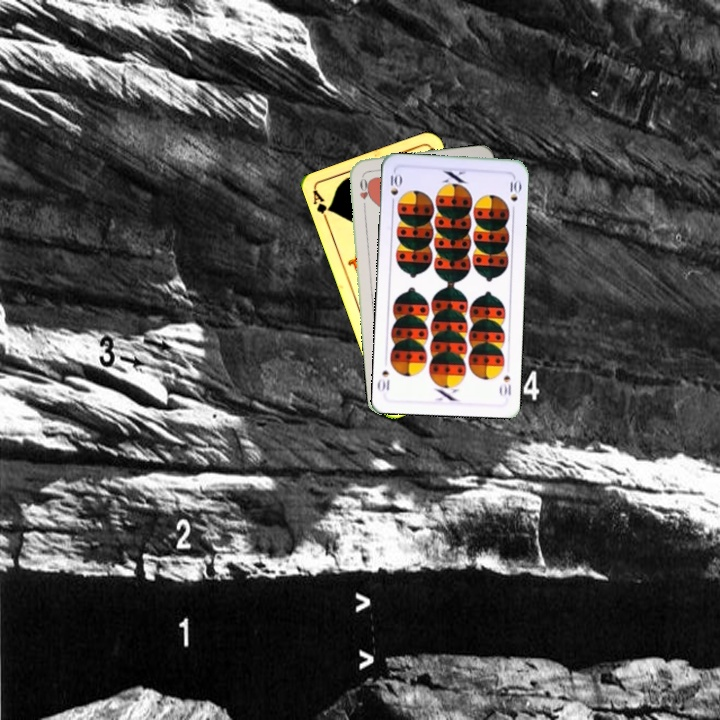GA: (309, 187, 334, 226)
HO: (355, 171, 372, 211)
S10: (387, 170, 403, 208), (496, 371, 513, 398)
